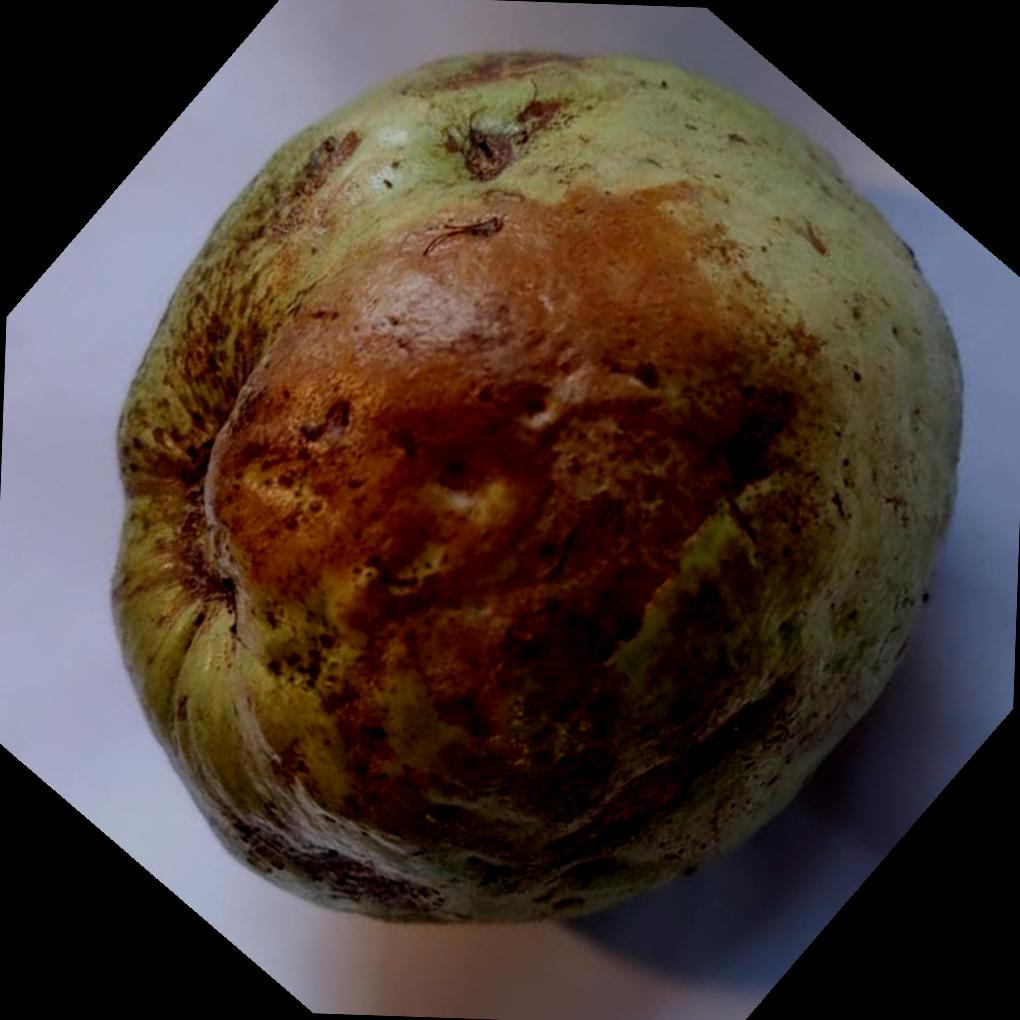FreshOrange: (112, 50, 968, 925)
